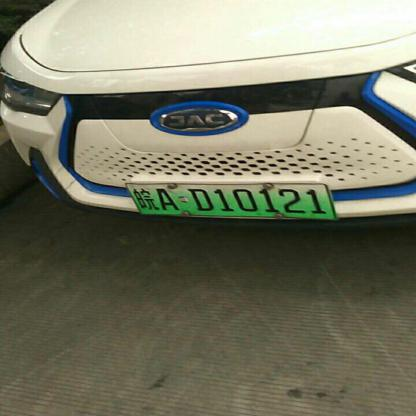lp: (125, 184, 337, 218)
